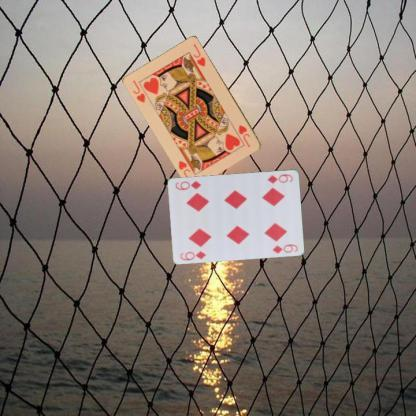6d: (178, 247, 208, 262), (265, 170, 294, 184)
Jh: (130, 77, 147, 104), (236, 122, 252, 148)
